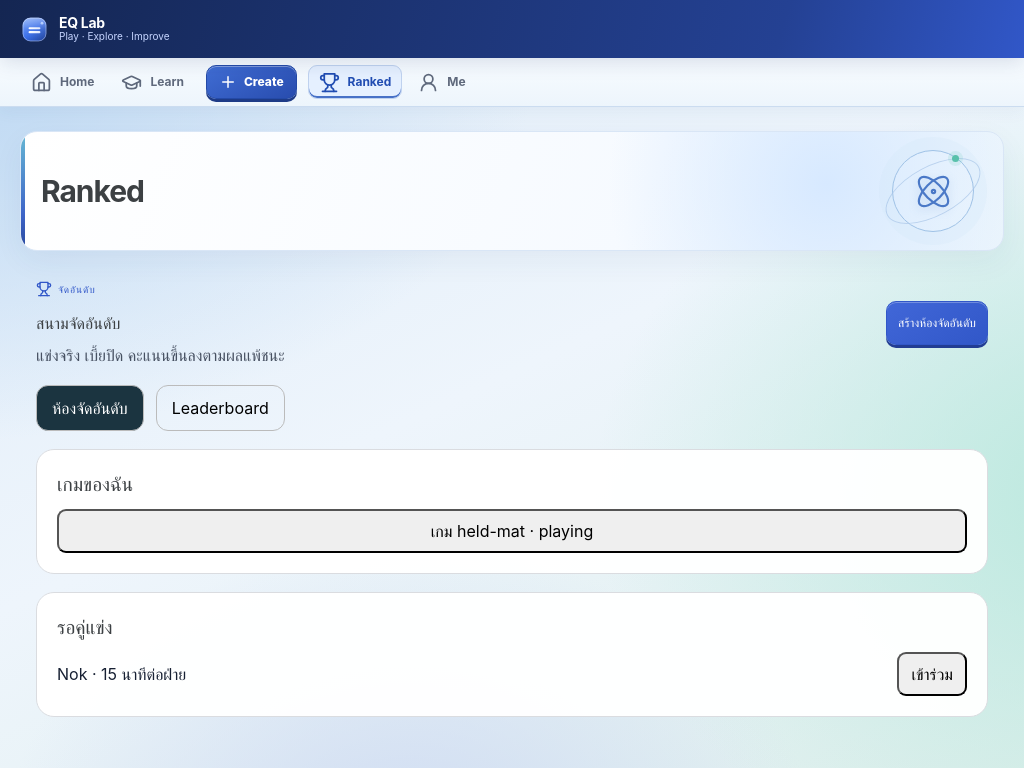
Test: changed stakes › fetch a fresh preview, not a claim, when the refusal carries none
Click the button "เข้าร่วม" at (932, 674), box [897,652,967,696]
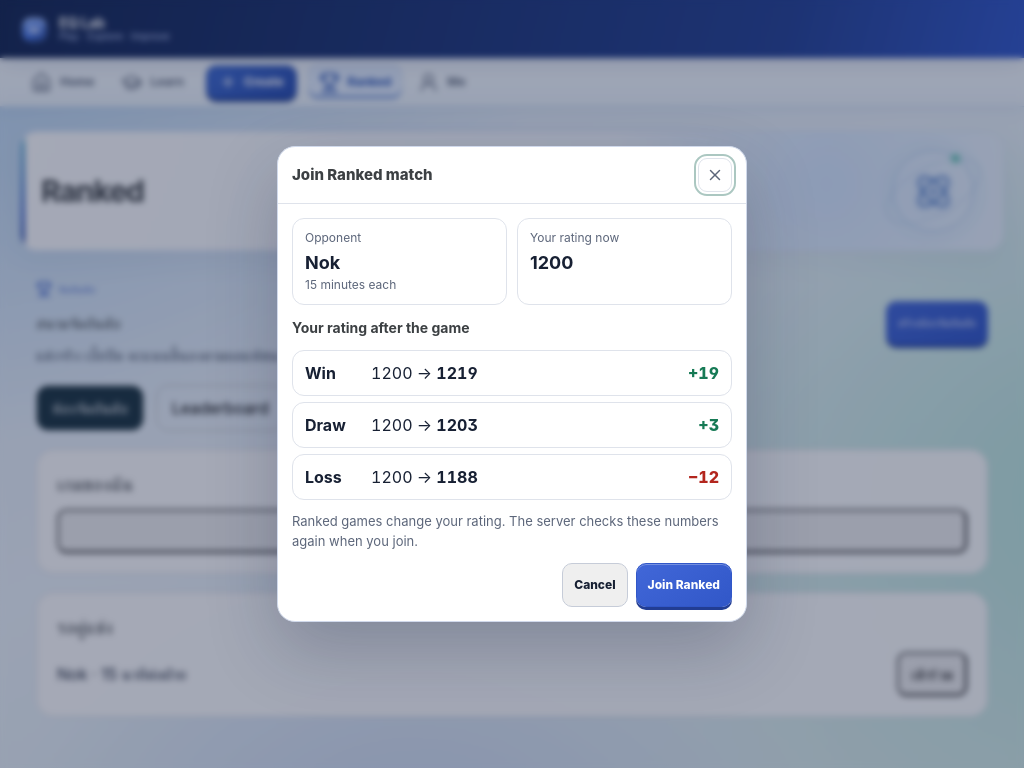
Click the button "Join Ranked" at (684, 585), box [636,563,732,607]
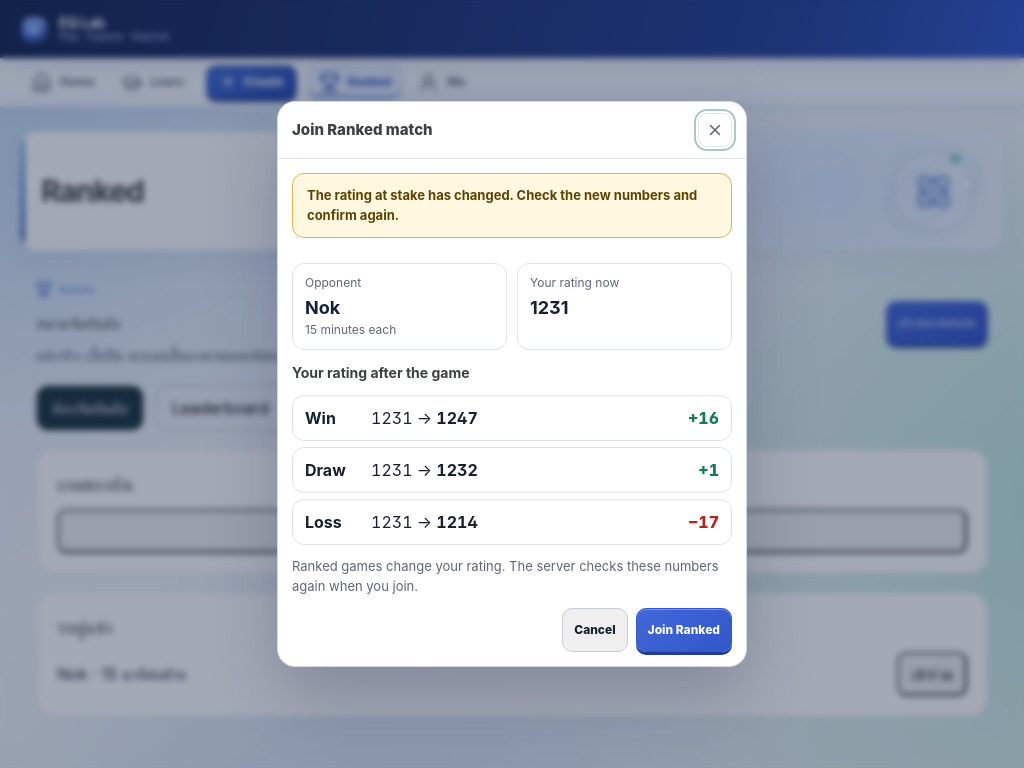
Expected: the text "The rating at stake has changed. Check the new numbers and confirm again." is shown, [292,173,732,238]
